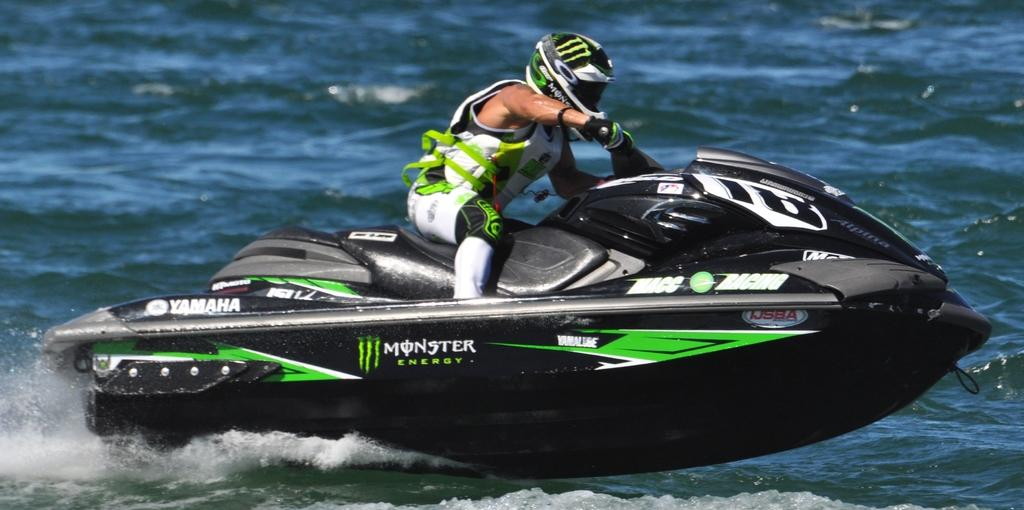helmet: (525, 31, 615, 142)
